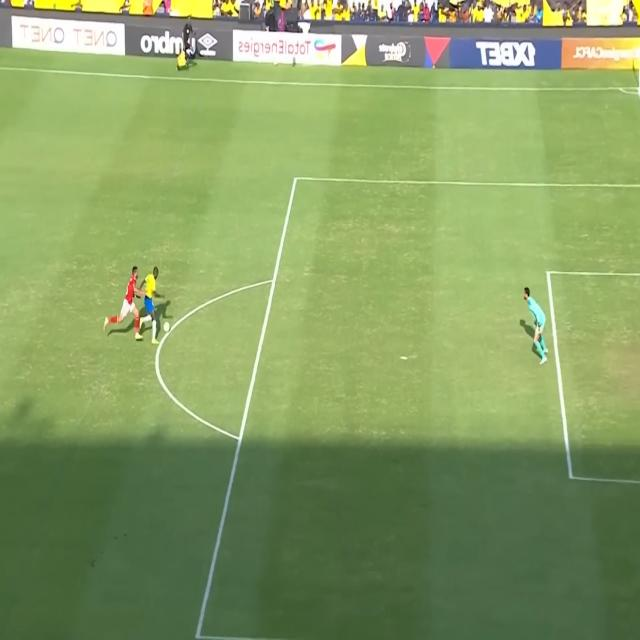Ball: (164, 317, 171, 333)
Keeper: (520, 282, 548, 366)
Player: (102, 264, 148, 346), (138, 264, 167, 347)
Ref: (176, 16, 197, 84)
